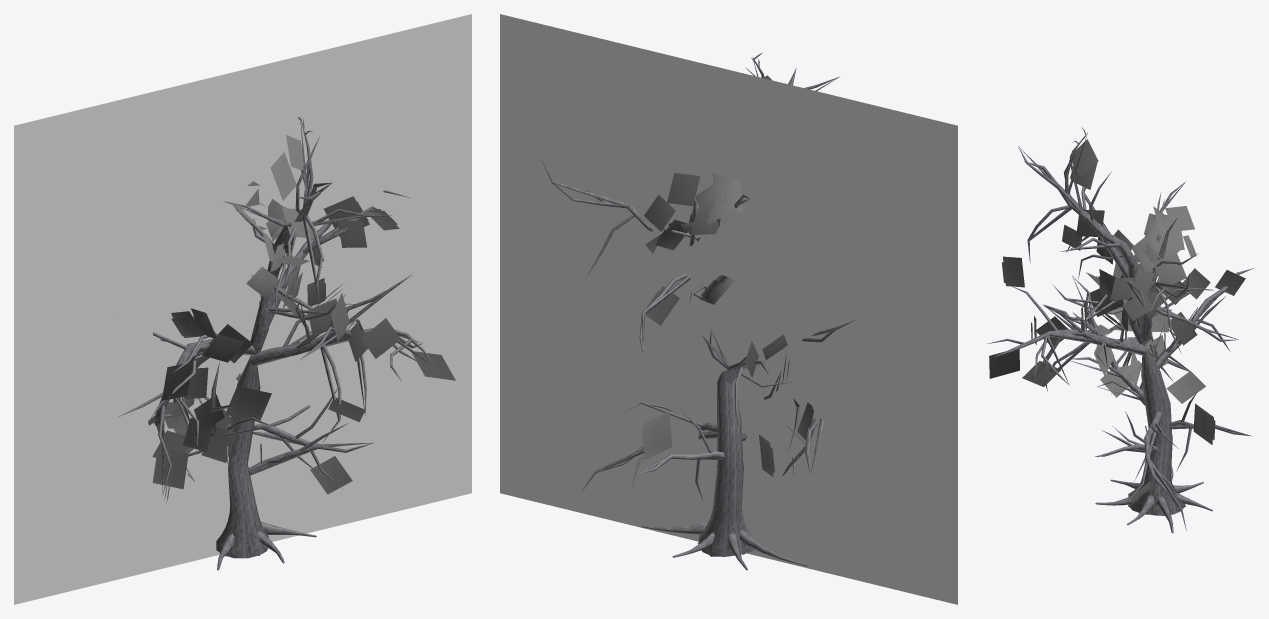
Rendered from corrompu_adulte_b.fbx.
3 renders of one model, left to right at view 1: azimuth 30°, elevation 25°; view 2: azimuth 150°, elevation 25°; view 3: azimuth 270°, elevation 25°, orthographic. The views are drawn at different scales.
Parts seen in each view (by area): view 1: corrompu_adulte_b_LOD3, corrompu_adulte_b_LOD1, corrompu_adulte_b_LOD2; view 2: corrompu_adulte_b_LOD3, corrompu_adulte_b_LOD1, corrompu_adulte_b_LOD2; view 3: corrompu_adulte_b_LOD1, corrompu_adulte_b_LOD2.
Part boxes in pixels (x1=…): corrompu_adulte_b_LOD3: x1=14, y1=14, x2=471, y2=604; corrompu_adulte_b_LOD1: x1=115, y1=117, x2=452, y2=570; corrompu_adulte_b_LOD2: x1=148, y1=118, x2=455, y2=569; corrompu_adulte_b_LOD3: x1=500, y1=14, x2=957, y2=604; corrompu_adulte_b_LOD1: x1=540, y1=52, x2=855, y2=570; corrompu_adulte_b_LOD2: x1=543, y1=53, x2=854, y2=569; corrompu_adulte_b_LOD1: x1=987, y1=127, x2=1254, y2=533; corrompu_adulte_b_LOD2: x1=989, y1=128, x2=1250, y2=532.
Size of what is drawn, in the model's own units: 18.85 by 18.85 by 11.37.
